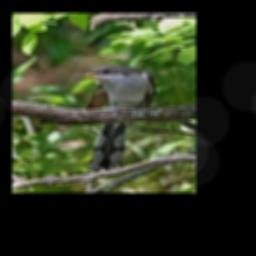Cuckoo: (76, 63, 155, 171)
